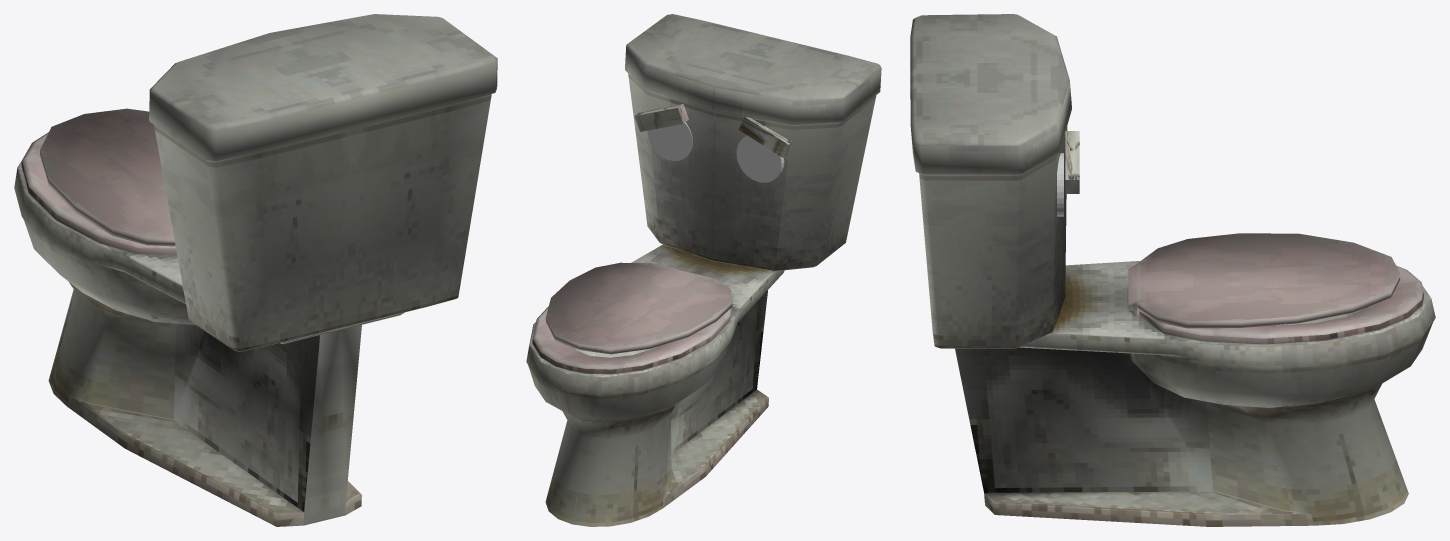
The model's file is toilet_For_game.fbx.
The picture shows the model from 3 angles, left to right: view 1: azimuth 30°, elevation 25°; view 2: azimuth 150°, elevation 25°; view 3: azimuth 270°, elevation 25°; orthographic projection. The views are drawn at different scales.
Parts seen in each view (by area): view 1: Toilet_Body, Toilet_Cap; view 2: Toilet_Body, Toilet_Cap, Toilet_Eyes; view 3: Toilet_Body, Toilet_Cap, Toilet_Eyes.
Part boxes in pixels (<box>): Toilet_Body: <box>14,14,497,526</box>; Toilet_Cap: <box>40,108,175,246</box>; Toilet_Body: <box>526,14,881,526</box>; Toilet_Cap: <box>545,262,732,354</box>; Toilet_Eyes: <box>634,104,792,182</box>; Toilet_Body: <box>910,14,1435,526</box>; Toilet_Cap: <box>1128,233,1400,328</box>; Toilet_Eyes: <box>1057,131,1079,216</box>.
Bounding box in the file's own units: 46.05 × 68.29 × 78.46.
